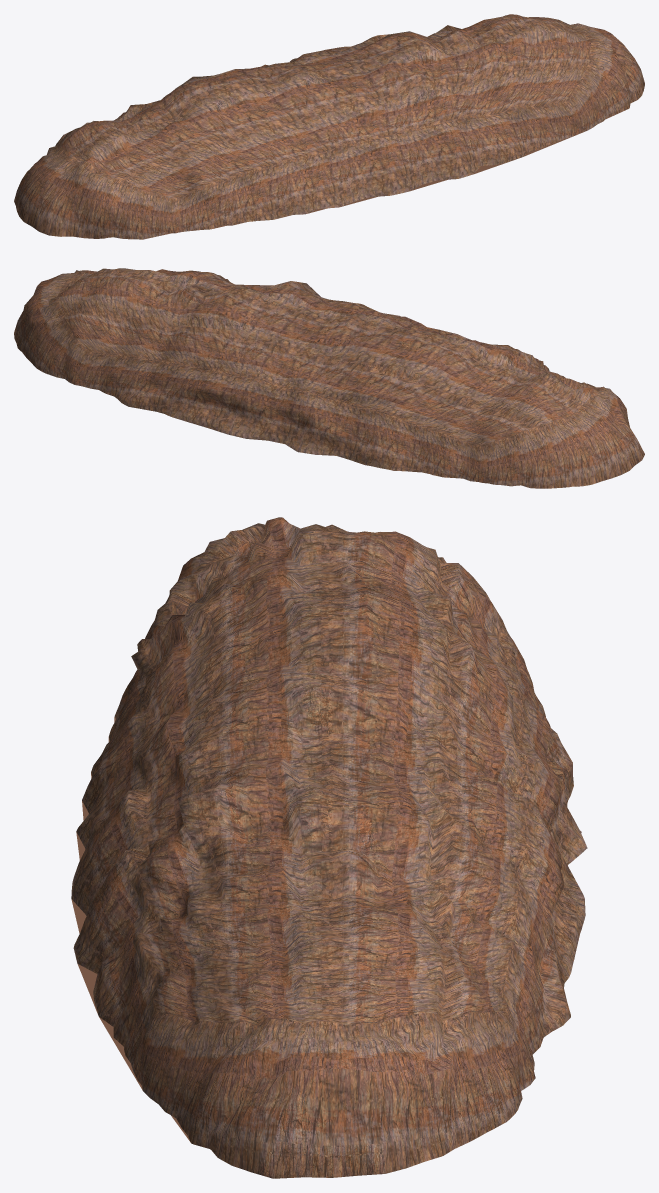
The model's file is mountain3.fbx.
3 renders of one model, top to bottom at view 1: azimuth 30°, elevation 25°; view 2: azimuth 150°, elevation 25°; view 3: azimuth 270°, elevation 25°, orthographic. The views are drawn at different scales.
Parts seen in each view (by area): view 1: mountain; view 2: mountain; view 3: mountain.
Part boxes in pixels (x1,y1,x2,y2): mountain: (14, 14, 644, 239); mountain: (14, 268, 644, 488); mountain: (71, 517, 587, 1178).
Size of the model in its own units: 390 by 52.59 by 144.
